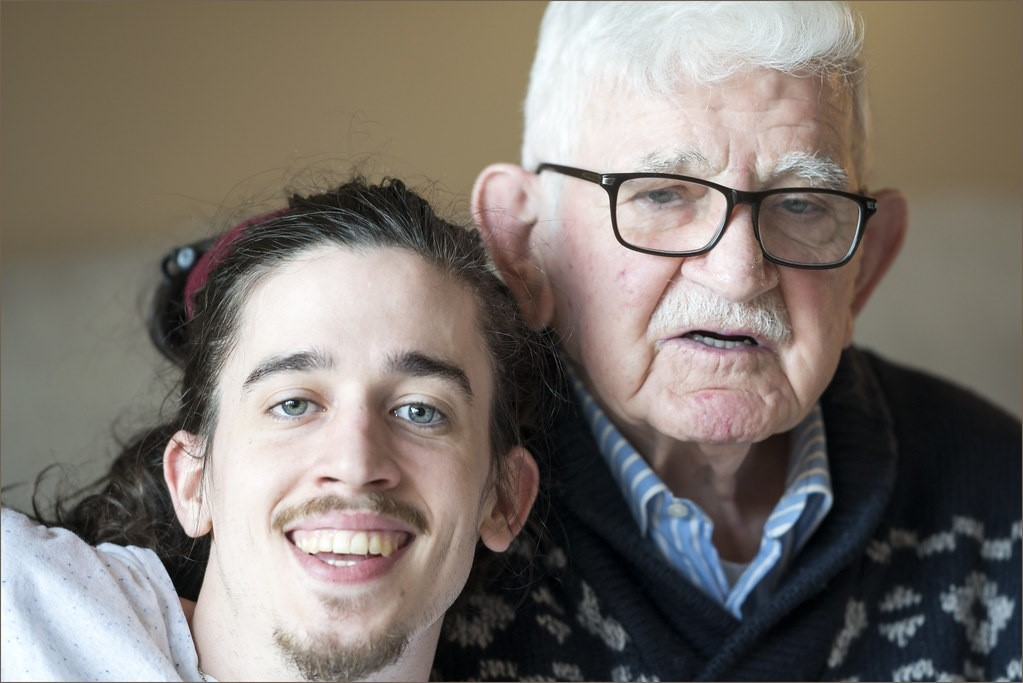face_no_mask: (159, 207, 542, 679), (545, 8, 882, 447)
